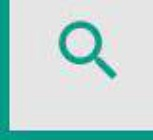ImgButton: (1, 1, 152, 139)
